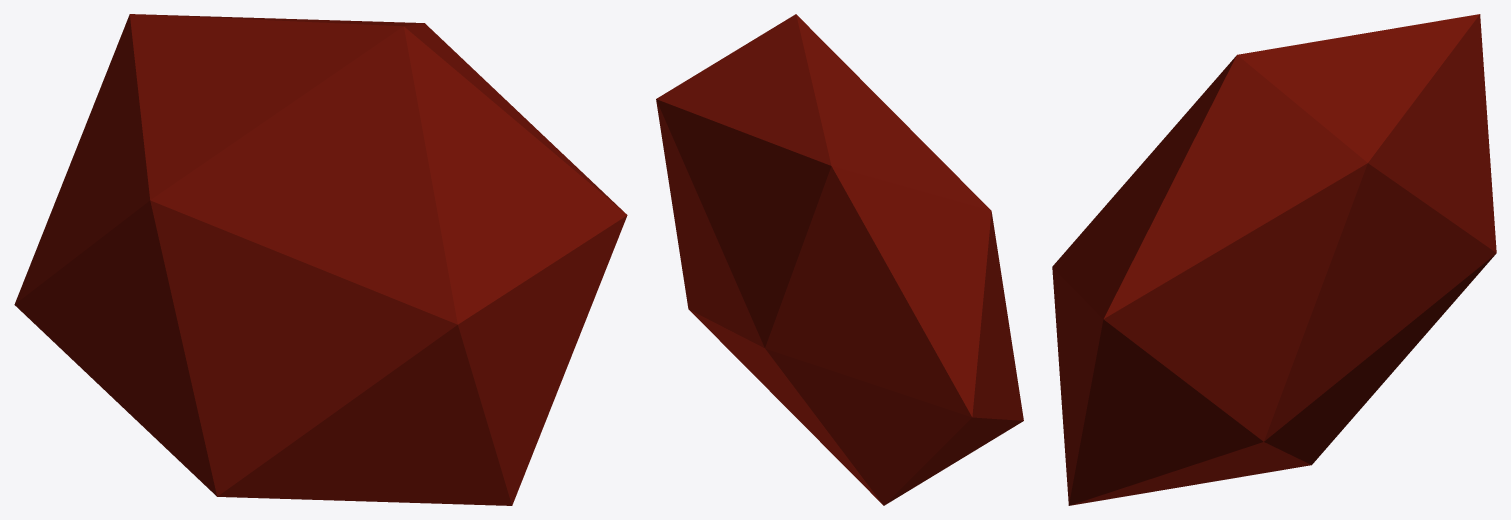
Rendered from Platonic_7.gltf.
3 views of the same model, side by side, from view 1: azimuth 30°, elevation 25°; view 2: azimuth 150°, elevation 25°; view 3: azimuth 270°, elevation 25° (orthographic). The views are drawn at different scales.
Parts seen in each view (by area): view 1: Platonic_7; view 2: Platonic_7; view 3: Platonic_7.
Boxes of the visible parts, x1,y1,x2,y2 form: Platonic_7: (14,14,627,505); Platonic_7: (656,14,1023,505); Platonic_7: (1052,14,1496,505).
Bounding box in the file's own units: 11.79 × 11.67 × 9.89.
